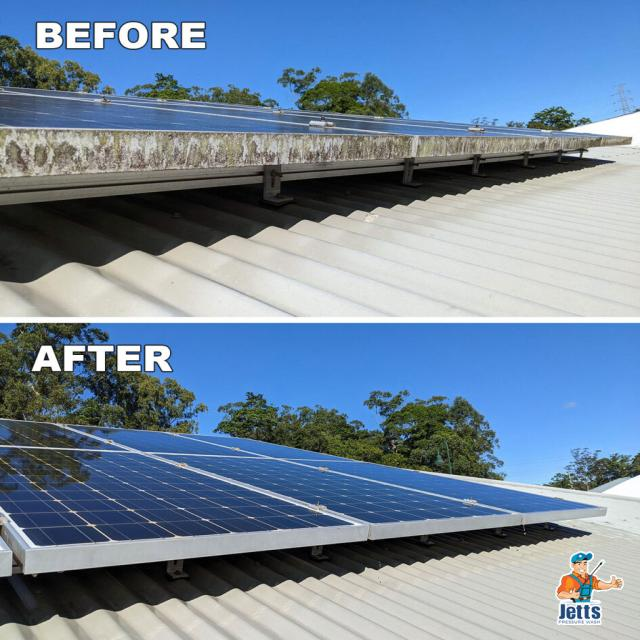clean-solar-panel: (0, 417, 596, 554)
